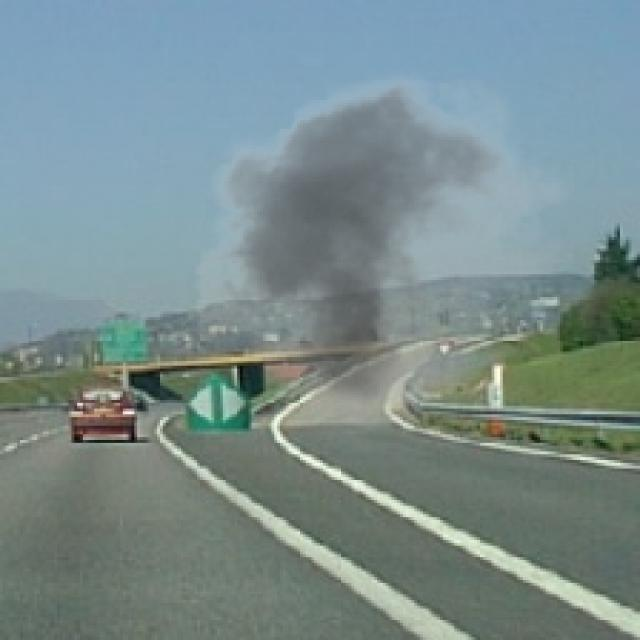smoke: (174, 57, 577, 437)
